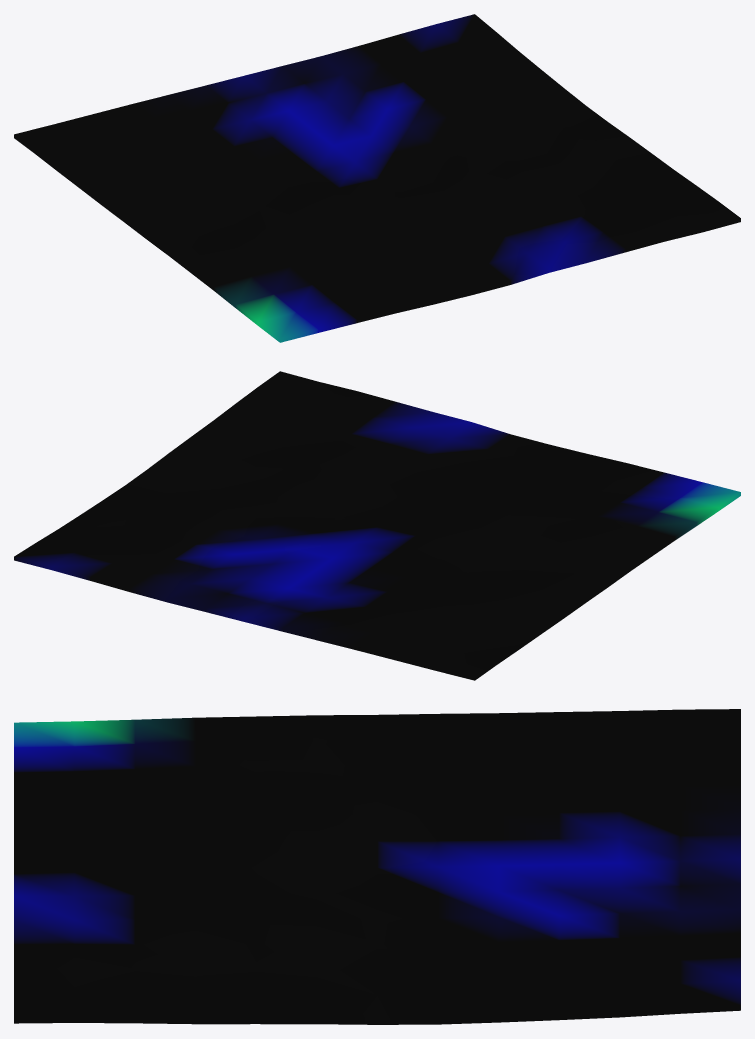
The model's file is coast_21_6.glb.
3 views of the same model, one above another, from view 1: azimuth 30°, elevation 25°; view 2: azimuth 150°, elevation 25°; view 3: azimuth 270°, elevation 25° (orthographic). The views are drawn at different scales.
Parts seen in each view (by area): view 1: terrain; view 2: terrain; view 3: terrain.
Part boxes in pixels (x1,y1,x2,y2): terrain: [14, 14, 740, 342]; terrain: [14, 371, 740, 680]; terrain: [14, 709, 740, 1024].
Size of the model in its own units: 192 by 8.56 by 192.
